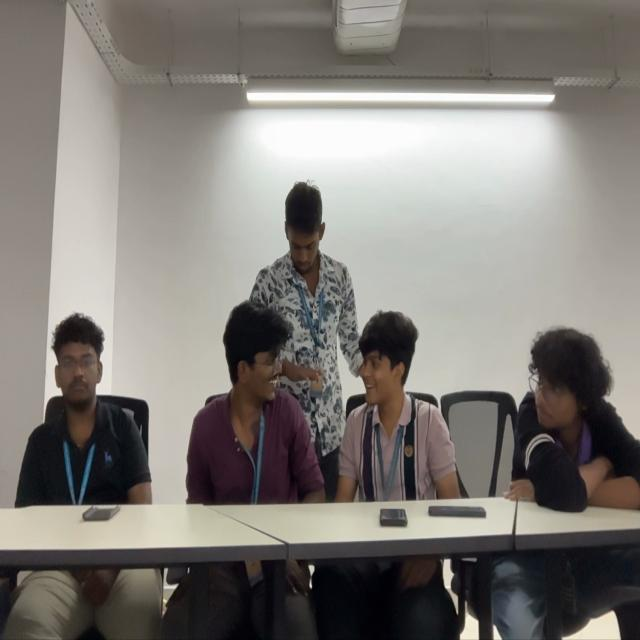Isolated: (19, 315, 151, 496), (510, 324, 638, 504)
socializing: (186, 185, 460, 499)
